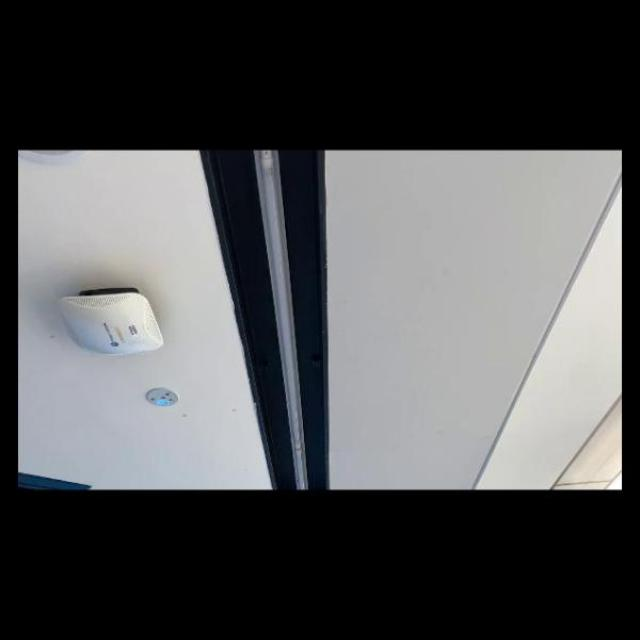Straight-Tube-Fluorescent-Lamp: (244, 152, 316, 490)
